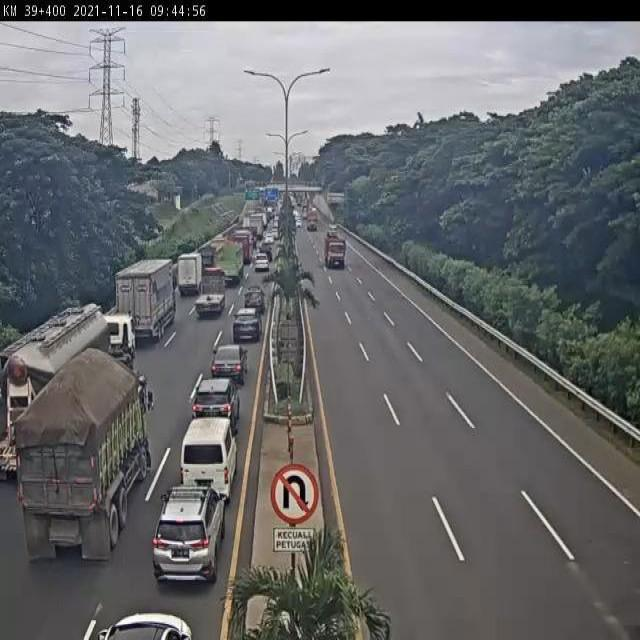car: (152, 488, 224, 584), (180, 417, 235, 499), (188, 378, 236, 442), (207, 345, 244, 388), (229, 309, 261, 348), (240, 291, 267, 323), (249, 250, 270, 278)
truck: (18, 357, 151, 560), (2, 304, 135, 479), (106, 264, 173, 352), (194, 267, 229, 323), (211, 240, 247, 292), (174, 247, 205, 295)
